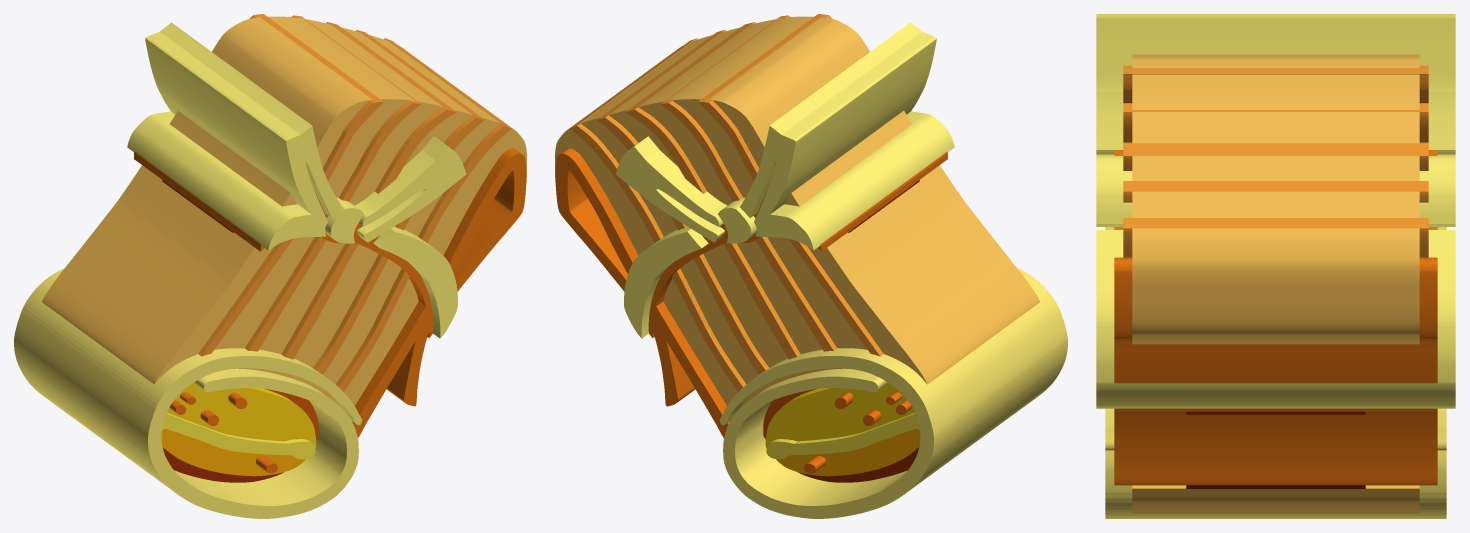
The model's file is U+1FAD4.obj.
The picture shows the model from 3 angles, left to right: view 1: azimuth 30°, elevation 25°; view 2: azimuth 150°, elevation 25°; view 3: azimuth 270°, elevation 25°; orthographic projection. The views are drawn at different scales.
Visible parts, largest first — view 1: U+1FAD4_layer06_obj00, U+1FAD4_layer09_obj00, U+1FAD4_layer10_obj01, U+1FAD4_layer08_obj00, U+1FAD4_layer03_obj00, U+1FAD4_layer10_obj02, U+1FAD4_layer07_obj00, U+1FAD4_layer07_obj02, U+1FAD4_layer10_obj03, U+1FAD4_layer07_obj04, U+1FAD4_layer07_obj01, U+1FAD4_layer02_obj00 (+5 smaller); view 2: U+1FAD4_layer06_obj00, U+1FAD4_layer09_obj00, U+1FAD4_layer10_obj01, U+1FAD4_layer08_obj00, U+1FAD4_layer03_obj00, U+1FAD4_layer10_obj02, U+1FAD4_layer07_obj00, U+1FAD4_layer07_obj02, U+1FAD4_layer10_obj03, U+1FAD4_layer07_obj04, U+1FAD4_layer07_obj01, U+1FAD4_layer02_obj00 (+5 smaller); view 3: U+1FAD4_layer06_obj00, U+1FAD4_layer08_obj00, U+1FAD4_layer10_obj01, U+1FAD4_layer10_obj03, U+1FAD4_layer09_obj00, U+1FAD4_layer07_obj00, U+1FAD4_layer07_obj02, U+1FAD4_layer10_obj02, U+1FAD4_layer07_obj03, U+1FAD4_layer07_obj04, U+1FAD4_layer08_obj01, U+1FAD4_layer07_obj01 (+3 smaller).
Boxes of the visible parts, bbox=[...] form: U+1FAD4_layer06_obj00: bbox=[42, 16, 526, 406]; U+1FAD4_layer09_obj00: bbox=[14, 268, 361, 518]; U+1FAD4_layer10_obj01: bbox=[127, 22, 341, 250]; U+1FAD4_layer08_obj00: bbox=[352, 148, 526, 437]; U+1FAD4_layer03_obj00: bbox=[167, 383, 316, 448]; U+1FAD4_layer10_obj02: bbox=[354, 136, 466, 242]; U+1FAD4_layer07_obj00: bbox=[281, 22, 456, 359]; U+1FAD4_layer07_obj02: bbox=[335, 38, 511, 391]; U+1FAD4_layer10_obj03: bbox=[373, 226, 457, 338]; U+1FAD4_layer07_obj04: bbox=[198, 14, 383, 356]; U+1FAD4_layer07_obj01: bbox=[245, 15, 420, 351]; U+1FAD4_layer02_obj00: bbox=[161, 428, 305, 476]; U+1FAD4_layer06_obj00: bbox=[555, 16, 1039, 406]; U+1FAD4_layer09_obj00: bbox=[720, 268, 1067, 518]; U+1FAD4_layer10_obj01: bbox=[740, 22, 954, 250]; U+1FAD4_layer08_obj00: bbox=[555, 148, 729, 437]; U+1FAD4_layer03_obj00: bbox=[765, 383, 914, 448]; U+1FAD4_layer10_obj02: bbox=[615, 136, 727, 242]; U+1FAD4_layer07_obj00: bbox=[625, 22, 800, 359]; U+1FAD4_layer07_obj02: bbox=[570, 38, 746, 391]; U+1FAD4_layer10_obj03: bbox=[624, 226, 708, 338]; U+1FAD4_layer07_obj04: bbox=[698, 14, 883, 356]; U+1FAD4_layer07_obj01: bbox=[661, 15, 836, 351]; U+1FAD4_layer02_obj00: bbox=[776, 428, 920, 476]; U+1FAD4_layer06_obj00: bbox=[1132, 54, 1419, 513]; U+1FAD4_layer08_obj00: bbox=[1114, 257, 1437, 485]; U+1FAD4_layer10_obj01: bbox=[1096, 14, 1455, 155]; U+1FAD4_layer10_obj03: bbox=[1096, 230, 1455, 408]; U+1FAD4_layer09_obj00: bbox=[1105, 227, 1446, 518]; U+1FAD4_layer07_obj00: bbox=[1123, 142, 1428, 170]; U+1FAD4_layer07_obj02: bbox=[1123, 218, 1428, 257]; U+1FAD4_layer10_obj02: bbox=[1096, 171, 1455, 226]; U+1FAD4_layer07_obj03: bbox=[1123, 181, 1428, 202]; U+1FAD4_layer07_obj04: bbox=[1123, 65, 1428, 102]; U+1FAD4_layer08_obj01: bbox=[1114, 150, 1437, 411]; U+1FAD4_layer07_obj01: bbox=[1123, 103, 1428, 142].
Size of the model in its own units: 0.3191 by 0.3045 by 0.2.
